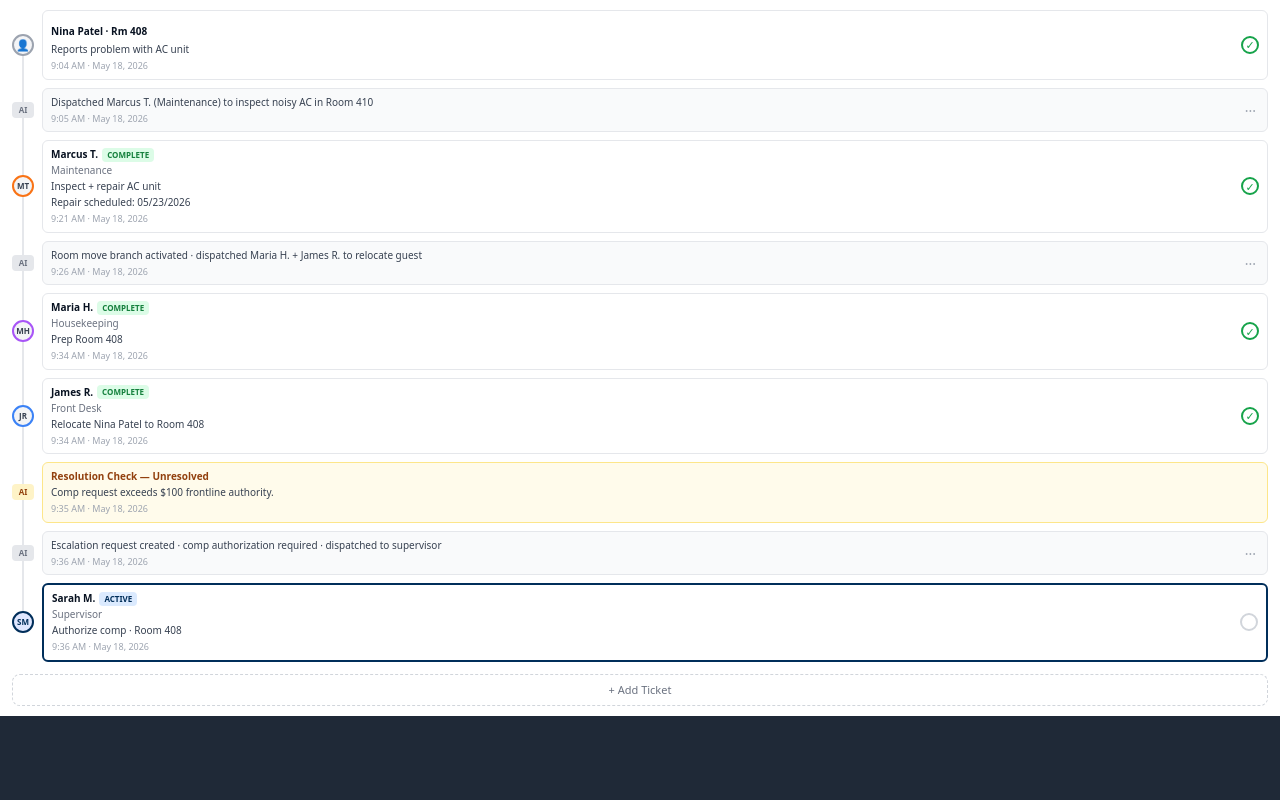
Test: TicketChain › opens an overflow menu on standard grey AI action items
Step 1. Click the button named "AI action menu" → point(1250, 111), box [1242,102,1259,120]
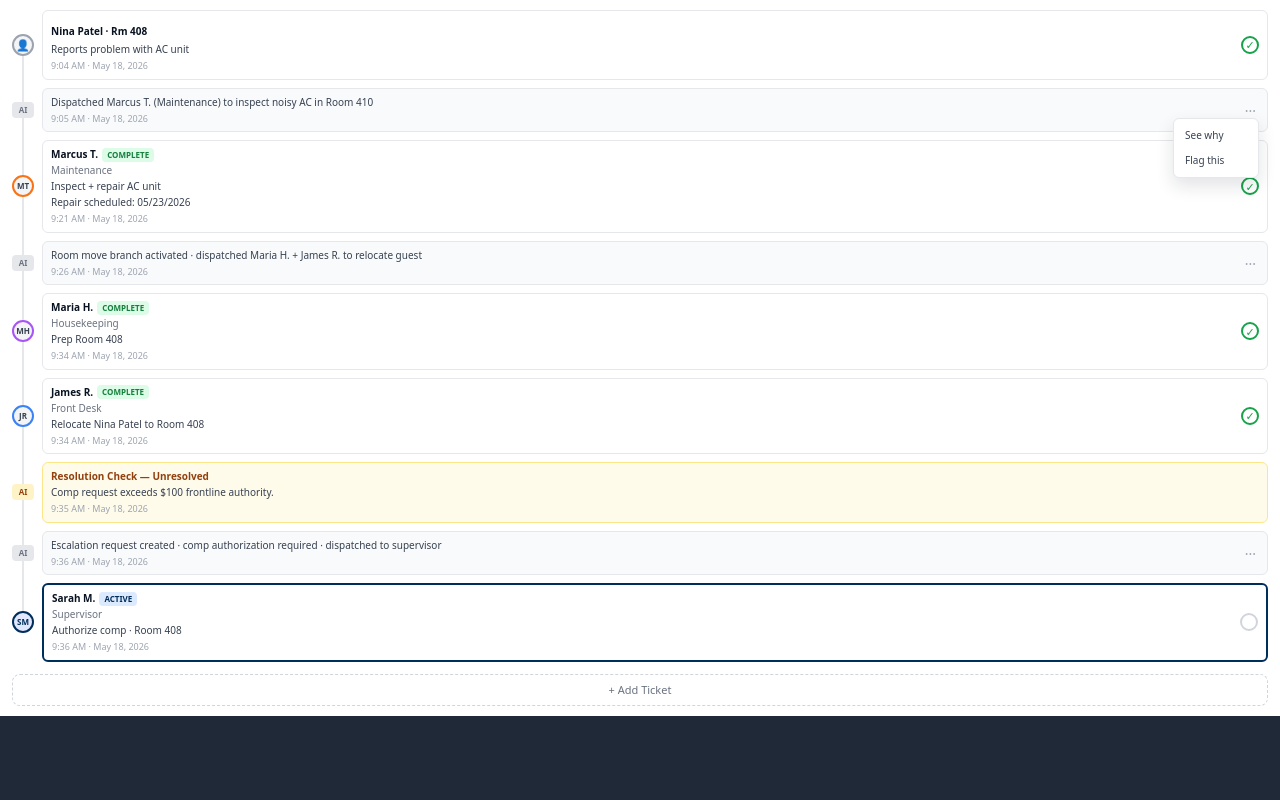
Now the button "See why" is shown, box [1178,123,1254,148]
Now the button "Flag this" is shown, box [1178,148,1254,173]
